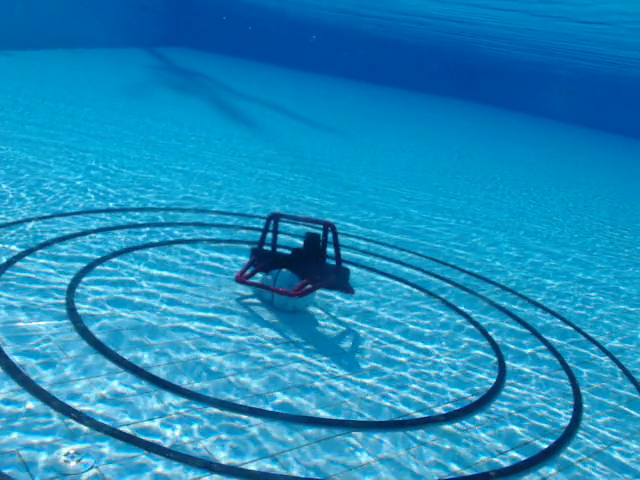submarine: (234, 210, 359, 304)
